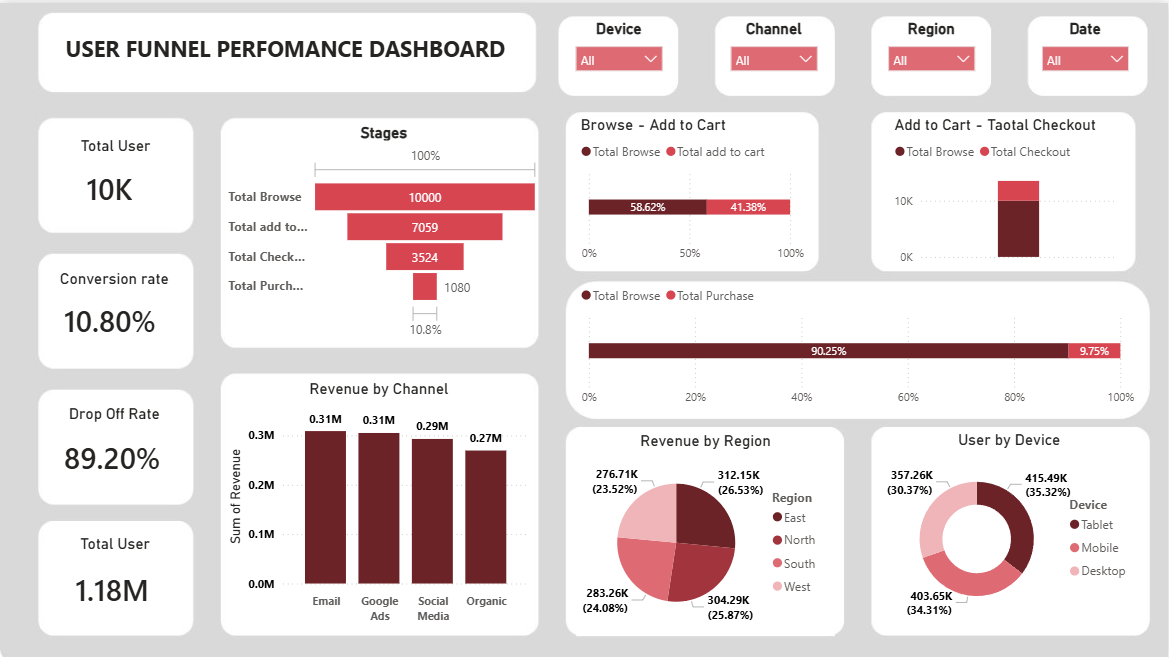

What the dashboard file says about the page in this screenshot:
{"tool":"powerbi","page":{"name":"Page 1","canvas":[1280,720],"ordinal":0},"visuals":[{"type":"textbox","box":[49.4,28.8,526.9,52.1],"z":0},{"type":"slicer","title":"Date","fields":{"Values":["funnel_analysis_data.Date.Variation.Date Hierarchy.Day"]},"box":[1132.1,17.8,115.3,82.3],"z":1000},{"type":"slicer","title":"Region","fields":{"Values":["funnel_analysis_data.Region"]},"box":[963.3,17.8,115.3,82.3],"z":2000},{"type":"slicer","title":"Channel","fields":{"Values":["funnel_analysis_data.Channel"]},"box":[790.4,17.8,115.3,82.3],"z":3000},{"type":"slicer","title":"Device","fields":{"Values":["funnel_analysis_data.Device"]},"box":[620.2,17.8,115.3,78.2],"z":4000},{"type":"cardVisual","title":"Total User","fields":{"Data":["funnel_analysis_data.total count"]},"box":[65.1,146,121.9,90.5],"z":5000},{"type":"cardVisual","title":"Total User","fields":{"Data":["Sum(funnel_analysis_data.Revenue)"]},"box":[53.5,581.8,145.5,97.4],"z":6000},{"type":"cardVisual","title":"Drop Off Rate","fields":{"Data":["funnel_analysis_data.Drop off rate"]},"box":[41.2,439.1,168.8,96.1],"z":7000},{"type":"cardVisual","title":"Conversion rate","fields":{"Data":["funnel_analysis_data.Total Conversion"]},"box":[41.2,292.3,168.8,90.6],"z":8000},{"type":"funnel","title":"Stages","fields":{"Y":["funnel_analysis_data.Total Browse","funnel_analysis_data.Total add to cart","funnel_analysis_data.Total Checkout","funnel_analysis_data.Total Purchase"]},"box":[244.9,131.5,351.1,241.3],"z":9000},{"type":"hundredPercentStackedBarChart","title":"Browse - Add to Cart","fields":{"Y":["funnel_analysis_data.Total Browse","funnel_analysis_data.Total add to cart"]},"box":[631,123.1,254.6,168.9],"z":10000},{"type":"columnChart","title":"Add to Cart - Taotal Checkout","fields":{"Y":["funnel_analysis_data.Total Browse","funnel_analysis_data.Total Checkout"]},"box":[976,123.1,254.6,168.9],"z":11001},{"type":"hundredPercentStackedBarChart","fields":{"Y":["funnel_analysis_data.Total Browse","funnel_analysis_data.Total Purchase"]},"box":[631,300.4,616.5,149.6],"z":11002},{"type":"columnChart","title":"Revenue by Channel","fields":{"Y":["Sum(funnel_analysis_data.Revenue)"],"Category":["funnel_analysis_data.Channel"]},"box":[244.9,412.6,340.2,275.1],"z":11003},{"type":"pieChart","title":"Revenue by Region","fields":{"Category":["funnel_analysis_data.Region"],"Y":["Sum(funnel_analysis_data.Revenue)"]},"box":[631,469.3,283.5,224.4],"z":11004},{"type":"donutChart","title":"User by Device","fields":{"Y":["Sum(funnel_analysis_data.Revenue)"],"Category":["funnel_analysis_data.Device"]},"box":[964.4,468.9,283.3,218.9],"z":11005}]}

Visuals, with their boxes in screenshot pixels (x1, y1, x2, y2), scaled from the page's 1280x720 canvas onto the 1169x658 screenshot:
textbox: x1=45 y1=26 x2=526 y2=74
"Date" slicer: x1=1034 y1=16 x2=1139 y2=91
"Region" slicer: x1=880 y1=16 x2=985 y2=91
"Channel" slicer: x1=722 y1=16 x2=827 y2=91
"Device" slicer: x1=566 y1=16 x2=672 y2=88
"Total User" cardVisual: x1=59 y1=133 x2=171 y2=216
"Total User" cardVisual: x1=49 y1=532 x2=182 y2=621
"Drop Off Rate" cardVisual: x1=38 y1=401 x2=192 y2=489
"Conversion rate" cardVisual: x1=38 y1=267 x2=192 y2=350
"Stages" funnel: x1=224 y1=120 x2=544 y2=341
"Browse - Add to Cart" hundredPercentStackedBarChart: x1=576 y1=112 x2=809 y2=267
"Add to Cart - Taotal Checkout" columnChart: x1=891 y1=112 x2=1124 y2=267
hundredPercentStackedBarChart - funnel_analysis_data.Total Browse x funnel_analysis_data.Total Purchase: x1=576 y1=275 x2=1139 y2=411
"Revenue by Channel" columnChart: x1=224 y1=377 x2=534 y2=628
"Revenue by Region" pieChart: x1=576 y1=429 x2=835 y2=634
"User by Device" donutChart: x1=881 y1=429 x2=1140 y2=629
